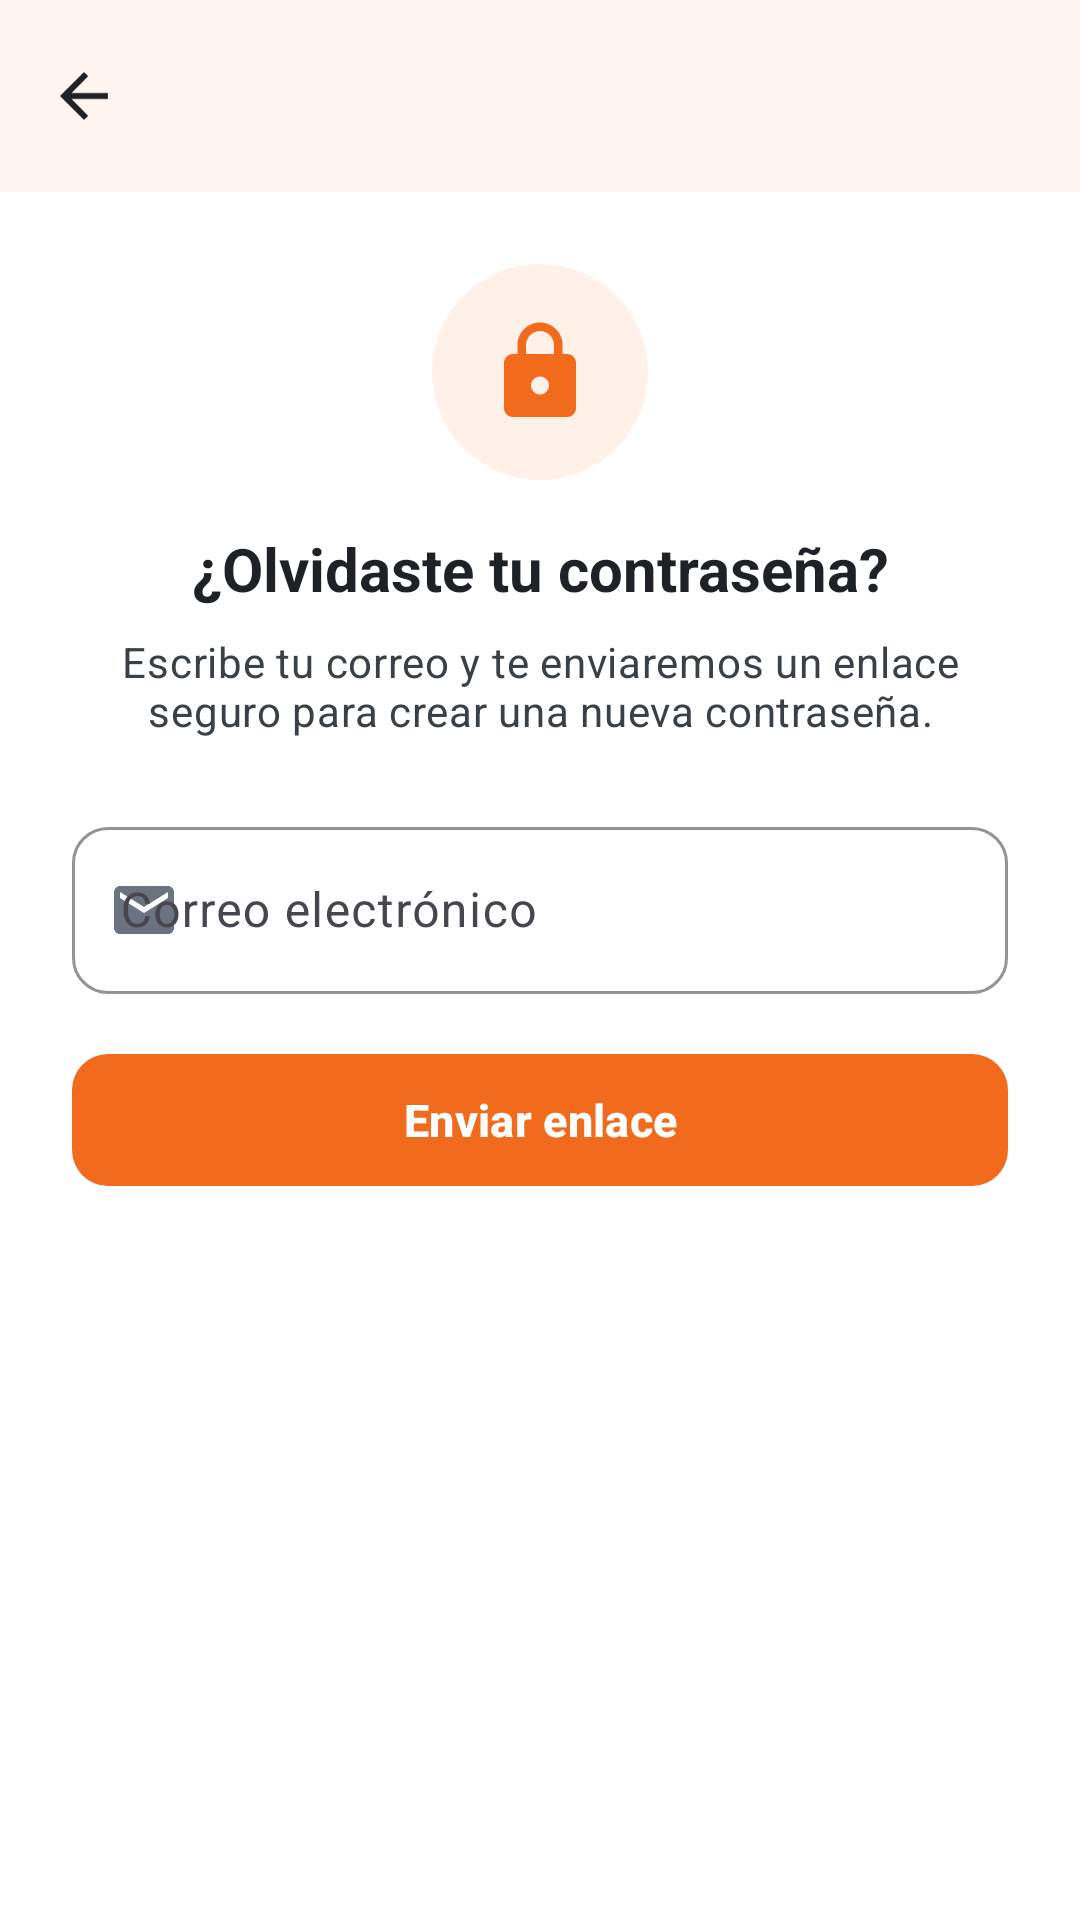

Screen size 1080x1920. Icon name, then its center in pixels as (x,y):
Recuperar contraseña: (540,369)
